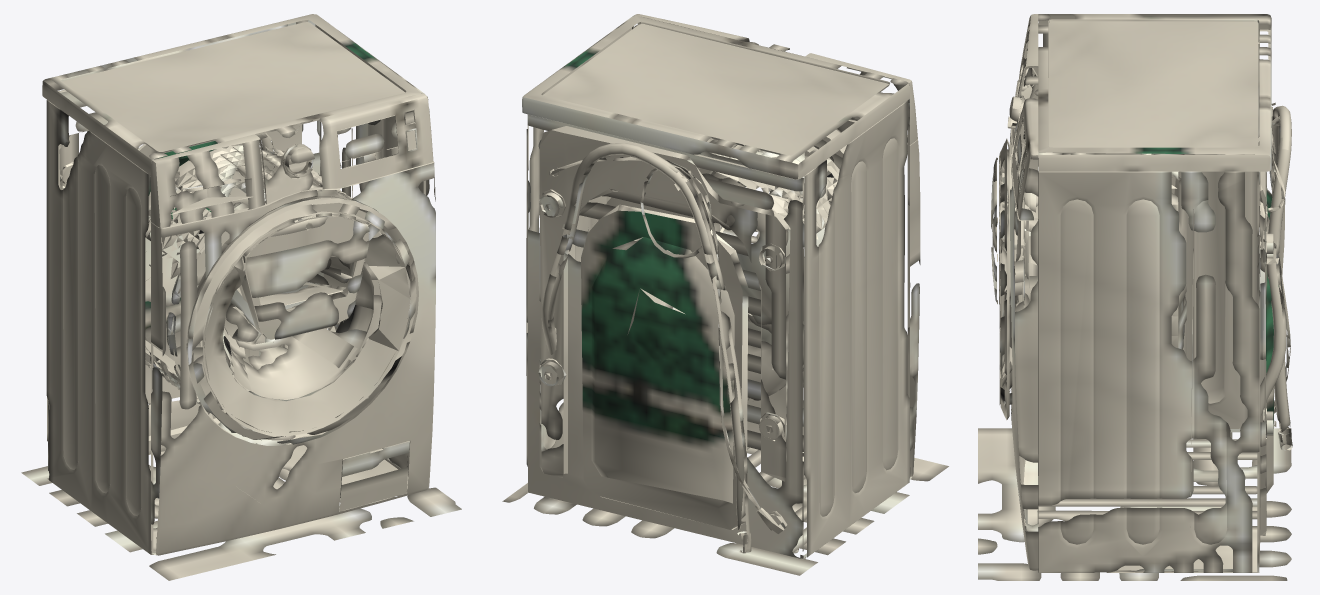
File: raw_model.obj
3 renders of one model, left to right at view 1: azimuth 30°, elevation 25°; view 2: azimuth 150°, elevation 25°; view 3: azimuth 270°, elevation 25°, orthographic. The views are drawn at different scales.
Parts seen in each view (by area): view 1: solid_001, glass_001, solid_005, glass_002, glass_003, solid_004, shadow, solid_002; view 2: solid_005, solid_001, solid_003, shadow, solid_004, solid_006; view 3: solid_001, shadow, solid_005, solid_003, solid_004, glass_001, glass_003, glass_002.
Part boxes in pixels (<box>): solid_001: <box>42,14,435,555</box>; glass_001: <box>192,203,416,439</box>; solid_005: <box>48,28,418,470</box>; glass_002: <box>222,257,381,401</box>; glass_003: <box>246,216,369,339</box>; solid_004: <box>145,147,410,440</box>; shadow: <box>21,458,461,580</box>; solid_002: <box>337,115,398,169</box>; solid_005: <box>527,114,839,558</box>; solid_001: <box>522,14,920,559</box>; solid_003: <box>541,143,749,541</box>; shadow: <box>502,447,948,575</box>; solid_004: <box>549,136,844,553</box>; solid_006: <box>538,192,798,553</box>; solid_001: <box>1010,14,1271,572</box>; shadow: <box>978,428,1291,580</box>; solid_005: <box>999,28,1280,572</box>; solid_003: <box>1260,105,1291,434</box>; solid_004: <box>999,107,1292,450</box>; glass_001: <box>999,143,1017,415</box>; glass_003: <box>991,156,999,304</box>; glass_002: <box>1017,195,1038,308</box>.
Bounding box in the file's own units: 0.6595 × 0.8475 × 0.598.
